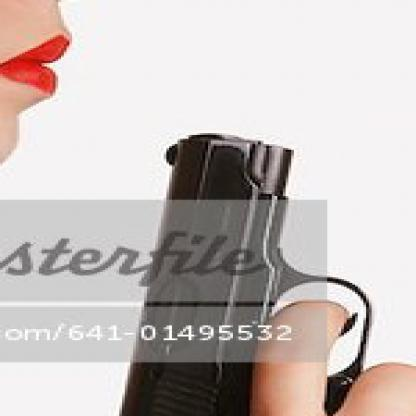gun: (70, 135, 414, 414)
